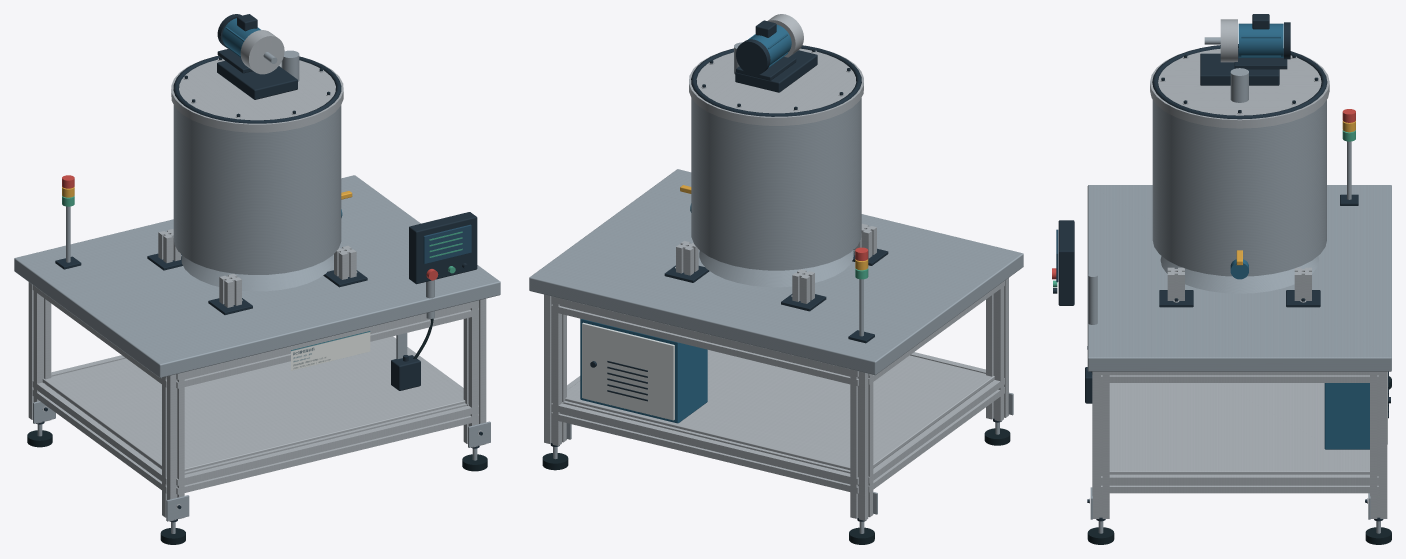
The model's file is ribbon-blender-cell.glb.
The picture shows the model from 3 angles, left to right: view 1: azimuth 30°, elevation 25°; view 2: azimuth 150°, elevation 25°; view 3: azimuth 270°, elevation 25°; orthographic projection. The views are drawn at different scales.
Parts seen in each view (by area): view 1: ClosedMachineBed_40, LowerShelf_41, VesselBody_91, VesselLid_93, SlottedExtrusion_34, SlottedExtrusion_35, SlottedExtrusion_11, SlottedExtrusion_36, ConsoleBack_52, SlottedExtrusion_27, SlottedExtrusion_3, LowerDishedEnd_92 (+11 smaller); view 2: ClosedMachineBed_40, VesselBody_91, LowerShelf_41, VesselLid_93, BackDoor_43, SlottedExtrusion_32, SlottedExtrusion_33, SlottedExtrusion_3, Cabinet_42, SlottedExtrusion_19, SlottedExtrusion_36, SlottedExtrusion_11 (+9 smaller); view 3: ClosedMachineBed_40, VesselBody_91, LowerShelf_41, VesselLid_93, SlottedExtrusion_38, SlottedExtrusion_39, Cabinet_42, SlottedExtrusion_19, SlottedExtrusion_27, LowerDishedEnd_92, LidGasket_118, AgitatorBridge_139 (+10 smaller).
Boxes of the visible parts, x1,y1,x2,y2 form: ClosedMachineBed_40: [14, 175, 500, 377]; LowerShelf_41: [42, 337, 465, 471]; VesselBody_91: [173, 105, 341, 274]; VesselLid_93: [171, 58, 343, 132]; SlottedExtrusion_34: [176, 403, 478, 494]; SlottedExtrusion_35: [176, 300, 478, 388]; SlottedExtrusion_11: [162, 372, 184, 521]; SlottedExtrusion_36: [32, 380, 166, 493]; ConsoleBack_52: [409, 212, 477, 284]; SlottedExtrusion_27: [463, 298, 486, 447]; SlottedExtrusion_3: [28, 282, 51, 423]; LowerDishedEnd_92: [181, 255, 333, 291]; ClosedMachineBed_40: [529, 169, 1023, 375]; VesselBody_91: [691, 98, 861, 270]; LowerShelf_41: [565, 350, 994, 470]; VesselLid_93: [689, 48, 863, 125]; BackDoor_43: [582, 322, 674, 420]; SlottedExtrusion_32: [551, 401, 858, 493]; SlottedExtrusion_33: [551, 296, 858, 386]; SlottedExtrusion_3: [850, 369, 873, 520]; Cabinet_42: [580, 318, 707, 423]; SlottedExtrusion_19: [544, 294, 566, 445]; SlottedExtrusion_36: [868, 378, 1004, 492]; SlottedExtrusion_11: [986, 278, 1008, 421]; ClosedMachineBed_40: [1087, 185, 1391, 371]; VesselBody_91: [1152, 100, 1326, 276]; LowerShelf_41: [1109, 383, 1369, 474]; VesselLid_93: [1150, 48, 1329, 128]; SlottedExtrusion_38: [1101, 474, 1378, 493]; SlottedExtrusion_39: [1101, 371, 1378, 382]; Cabinet_42: [1324, 383, 1369, 449]; SlottedExtrusion_19: [1370, 371, 1387, 518]; SlottedExtrusion_27: [1092, 371, 1109, 518]; LowerDishedEnd_92: [1160, 256, 1318, 293]; LidGasket_118: [1152, 44, 1327, 119]; AgitatorBridge_139: [1200, 53, 1279, 85].
Size of the model in its own units: 1.55 by 1.86 by 1.29.
Materials: 11 (3 with a texture image).
